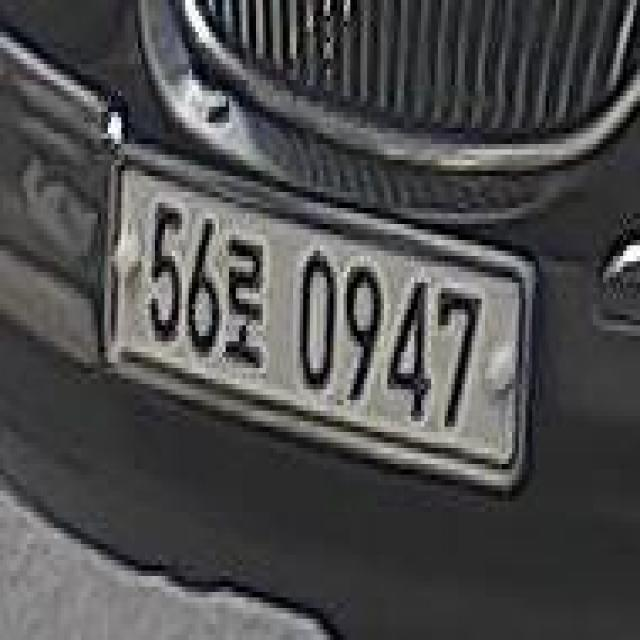illegal_plate: (104, 153, 535, 502)
